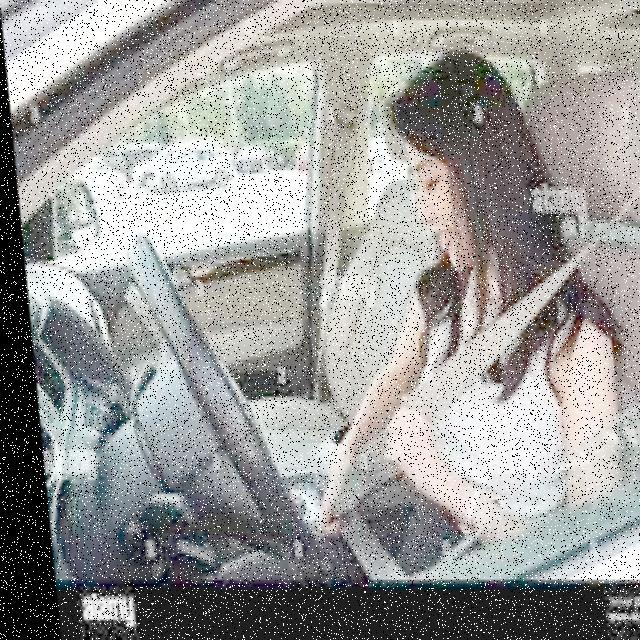seatbelt: (406, 260, 592, 460)
